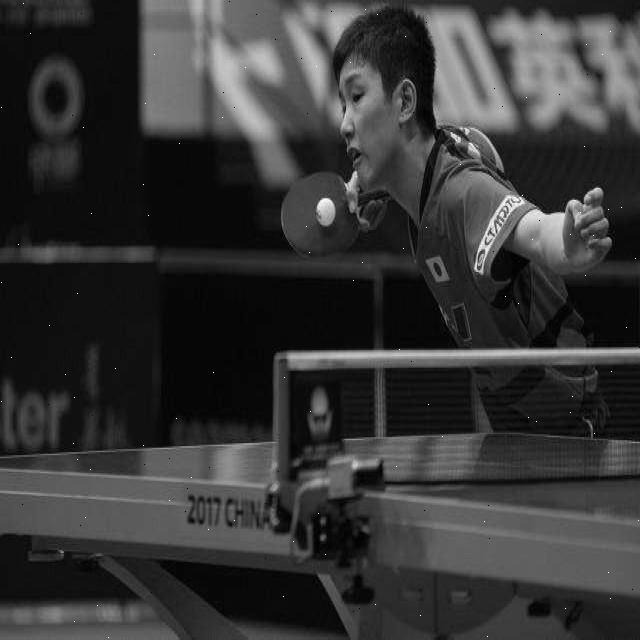ping-pong-ball: (313, 192, 336, 227)
